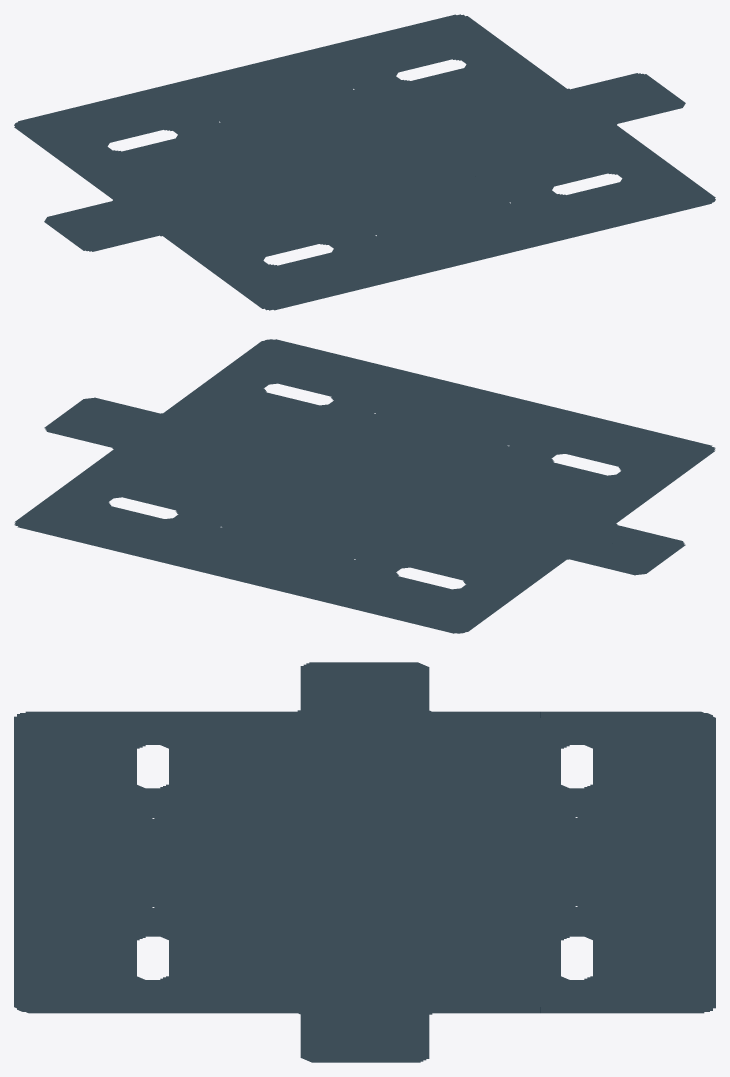
Rendered from agua.glb.
3 views of the same model, one above another, from view 1: azimuth 30°, elevation 25°; view 2: azimuth 150°, elevation 25°; view 3: azimuth 270°, elevation 25° (orthographic). The views are drawn at different scales.
Parts seen in each view (by area): view 1: agua; view 2: agua; view 3: agua.
Boxes of the visible parts, <box> form: agua: <box>14,14,715,310</box>; agua: <box>14,339,715,633</box>; agua: <box>14,662,715,1062</box>.
Size of the model in its own units: 2916 by 0 by 2160.
